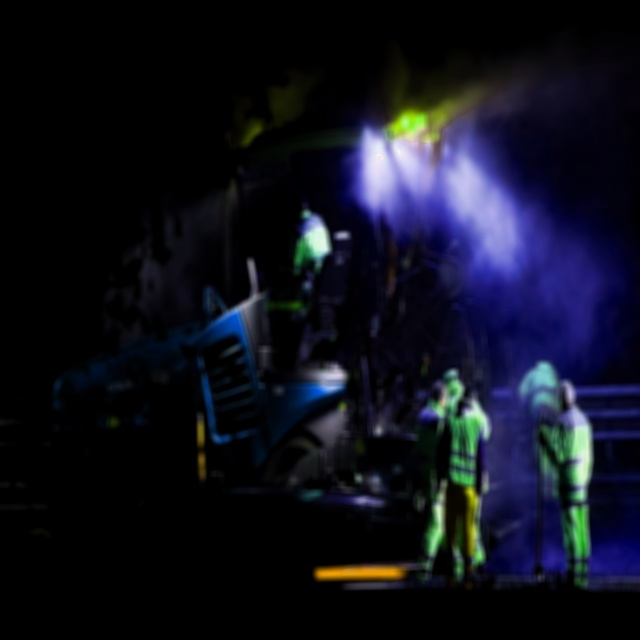Con_Chaleco: (555, 410, 590, 501), (447, 410, 481, 485)
Sin_Casco_Mascarrilla: (558, 380, 575, 408), (462, 383, 477, 407)
